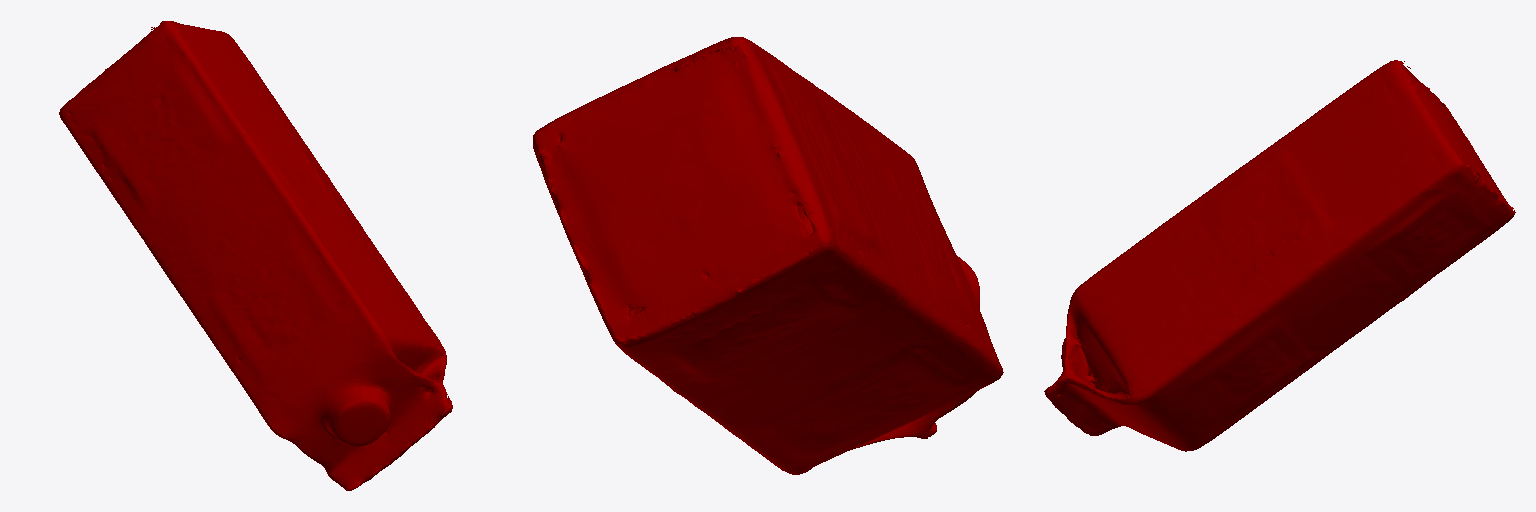
The robot description file, URDF, robot "object":
<?xml version="1.0"?>

<!-- Computed inertial properties by assuming the mesh represents an infinitely
thin, uniformly dense, hollow object.  Done via cnets-data-generation's
test_mesh_inertia.py script, which generated the following, assuming a mass
value of 0.37 kg:

    Object:  half
    Center of mass:  [-0.01585425 -0.00986409 -0.04145316]
    Inertia tensor about center of mass:
        [[ 0.00210965  0.00020542  0.00013421]
        [ 0.00020542  0.00110365 -0.00072384]
        [ 0.00013421 -0.00072384  0.00164132]]

TODO:  Need to pick a coefficient of friction based on measurements.
-->

<robot name="object" xmlns:drake="https://drake.mit.edu/">
    <link name="body">
        <inertial>
            <origin xyz="-0.01585425 -0.00986409 -0.04145316" rpy="0 0 0"/>
            <mass value="0.37" />
            <inertia
                ixx="0.00210965"
                ixy="0.00020542"
                ixz="0.00013421"
                iyy="0.00110365"
                iyz="-0.00072384"
                izz="0.00164132" />
        </inertial>
        <visual>
            <origin xyz="0 0 0" rpy="0 0 0" />
            <geometry>
                <mesh filename="half_gt.obj"/>
            </geometry>
            <material name="pennred">
                <color rgba="0.6 0 0 1.0" />
            </material>
        </visual>
        <collision>
            <geometry>
                <mesh filename="half_gt.obj"/>
            </geometry>
            <origin xyz="0 0 0" rpy="0 0 0" />
            <drake:proximity_properties>
                <drake:mu_static value="0.15" />
            </drake:proximity_properties>
        </collision>
    </link>
</robot>

--- What the picture shows (computed from the rendered views, not written in the file) ---
3 views of the same robot in one strip: view 1: azimuth 30°, elevation 25°; view 2: azimuth 150°, elevation 25°; view 3: azimuth 270°, elevation 25° (orthographic).
Model object with 1 links and 0 joints (none), rooted at body, posed every joint at zero.
Visible links, largest first — view 1: body; view 2: body; view 3: body.
Link boxes in pixels (x1=…): body: x1=59, y1=21, x2=452, y2=490; body: x1=533, y1=37, x2=1003, y2=474; body: x1=1044, y1=60, x2=1515, y2=451.
Bounding box of the posed robot: 0.1242 × 0.2221 × 0.1877 m (x, y, z).
Meshes: 1 distinct files referenced, 1 mesh visuals loaded (1 OBJ).
